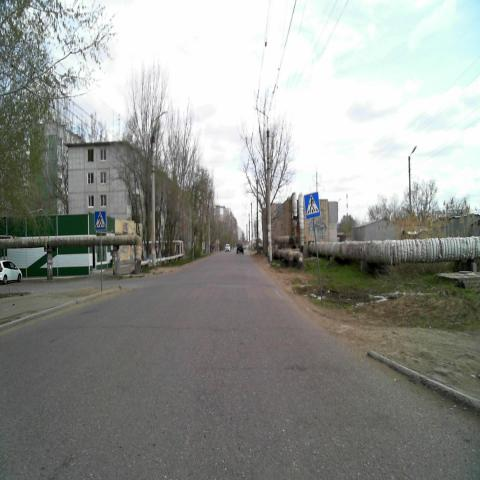5_19_1: (304, 192, 319, 218), (95, 209, 107, 230)
